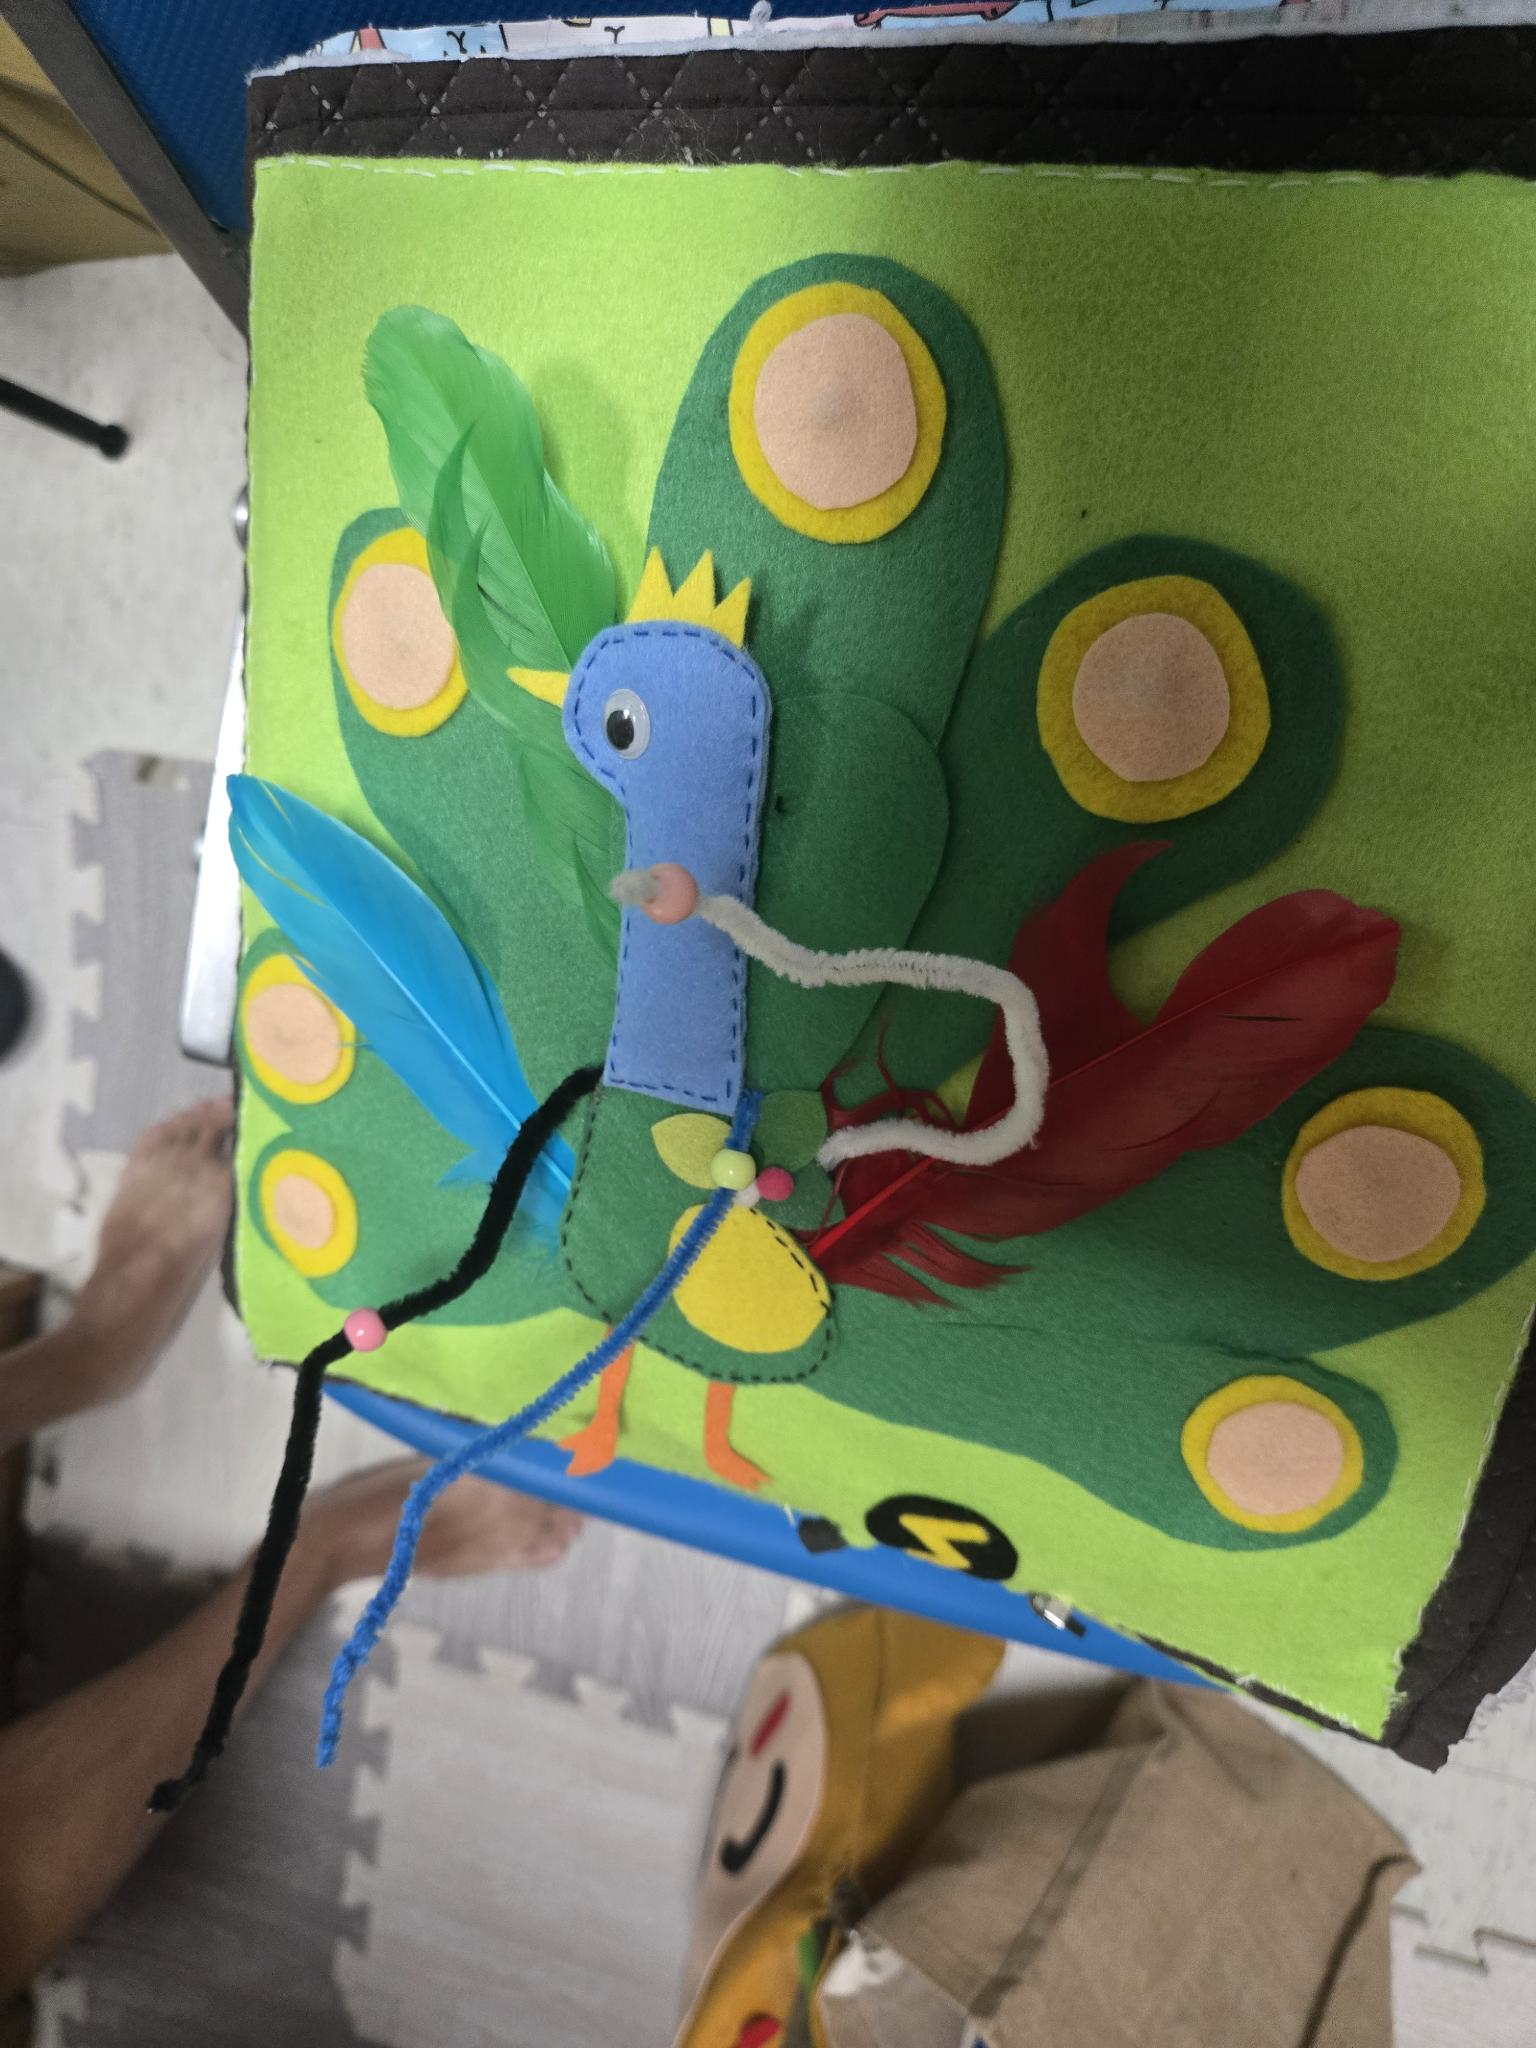bead: (624, 847, 712, 935), (318, 1297, 399, 1374), (707, 1118, 771, 1211)
